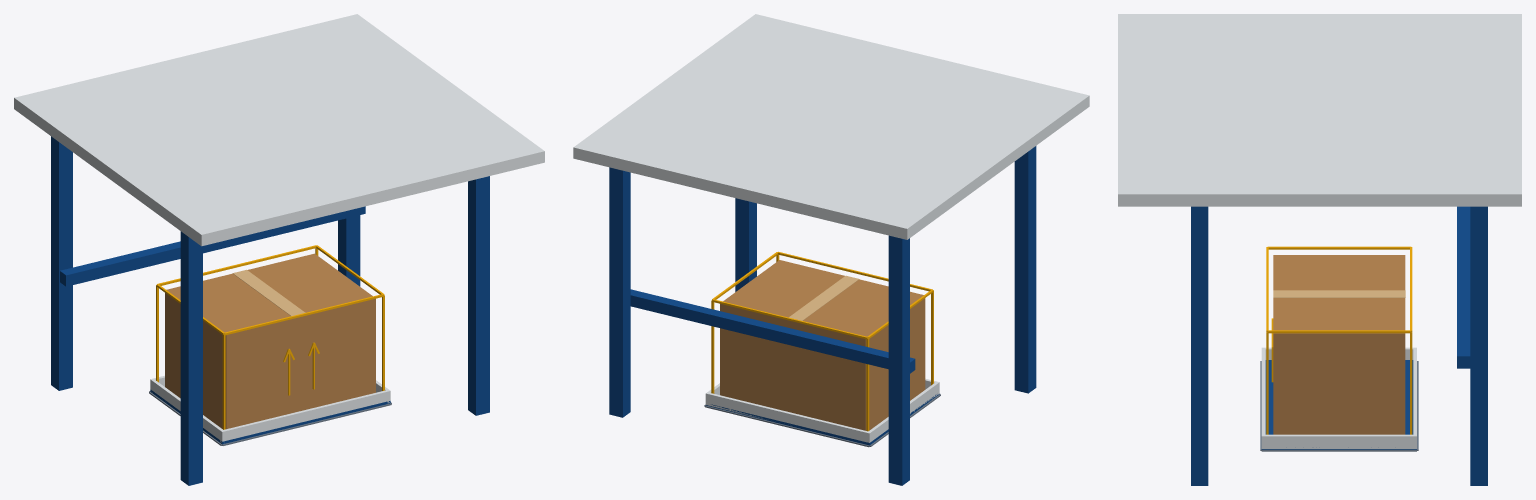
Rendered from visual_support.glb.
The picture shows the model from 3 angles, left to right: view 1: azimuth 30°, elevation 25°; view 2: azimuth 150°, elevation 25°; view 3: azimuth 270°, elevation 25°; orthographic projection. The views are drawn at different scales.
Parts seen in each view (by area): view 1: VIS_Bench_top, VIS_Order_oversize, VIS_Bench_leg, VIS_Bench_leg.001, VIS_Bench_leg.002, VIS_Bench_rail, VIS_Tray_rim.002, VIS_Bench_leg.003, VIS_Order_tape.002, VIS_Tray_base, VIS_Tray_rim, VIS_Reserve_edge.006; view 2: VIS_Bench_top, VIS_Order_oversize, VIS_Bench_leg, VIS_Bench_leg.001, VIS_Bench_leg.003, VIS_Bench_rail, VIS_Tray_rim.003, VIS_Bench_leg.002, VIS_Order_tape.002, VIS_Tray_rim, VIS_Tray_base, VIS_Reserve_edge.007; view 3: VIS_Bench_top, VIS_Order_oversize, VIS_Bench_leg.003, VIS_Bench_leg.002, VIS_Tray_rim.001, VIS_Bench_rail, VIS_Tray_base, VIS_Order_tape.002, VIS_Reserve_edge.005, VIS_Reserve_edge.004, VIS_Slot_edge.001, VIS_Tray_rim.002.
Part boxes in pixels (x1,y1,x2,y2): VIS_Bench_top: (14,14,544,246); VIS_Order_oversize: (165,253,375,429); VIS_Bench_leg: (180,231,202,485); VIS_Bench_leg.001: (51,136,72,390); VIS_Bench_leg.002: (468,176,489,415); VIS_Bench_rail: (60,206,365,286); VIS_Tray_rim.002: (220,390,387,442); VIS_Bench_leg.003: (338,215,360,286); VIS_Order_tape.002: (232,269,305,316); VIS_Tray_base: (150,389,390,444); VIS_Tray_rim: (150,378,225,441); VIS_Reserve_edge.006: (224,294,383,335); VIS_Bench_top: (573,14,1089,239); VIS_Order_oversize: (720,260,925,430); VIS_Bench_leg: (1014,146,1036,393); VIS_Bench_leg.001: (888,235,909,485); VIS_Bench_leg.003: (609,167,630,417); VIS_Bench_rail: (630,289,915,373); VIS_Tray_rim.003: (708,393,869,442); VIS_Bench_leg.002: (735,198,756,291); VIS_Order_tape.002: (789,275,858,320); VIS_Tray_rim: (866,381,939,442); VIS_Tray_base: (705,394,939,445); VIS_Reserve_edge.007: (712,299,867,339); VIS_Bench_top: (1118,14,1521,206); VIS_Order_oversize: (1273,255,1405,434); VIS_Bench_leg.003: (1470,206,1487,485); VIS_Bench_leg.002: (1191,206,1208,485); VIS_Tray_rim.001: (1261,434,1416,448); VIS_Bench_rail: (1457,206,1470,368); VIS_Tray_base: (1261,360,1416,449); VIS_Order_tape.002: (1273,290,1405,297); VIS_Reserve_edge.005: (1267,330,1411,333); VIS_Reserve_edge.004: (1268,246,1410,249); VIS_Slot_edge.001: (1261,449,1416,451); VIS_Tray_rim.002: (1261,347,1265,446).
Size of the model in its own units: 1.1 by 0.935 by 1.04.
